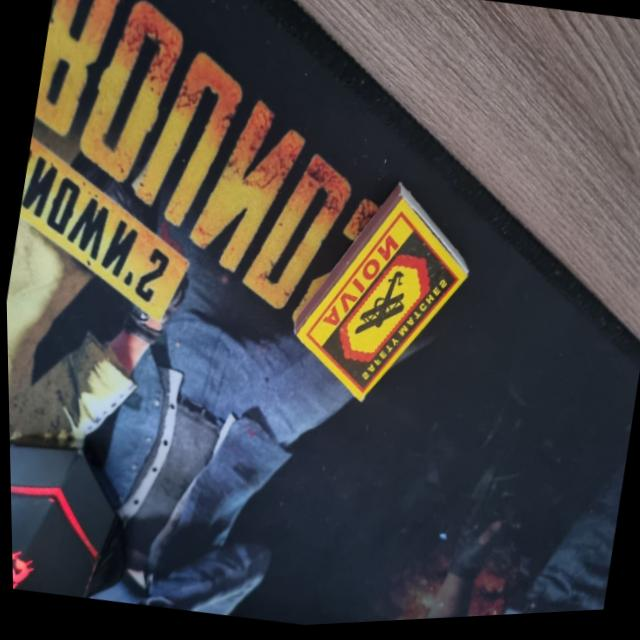match: (271, 160, 487, 427)
